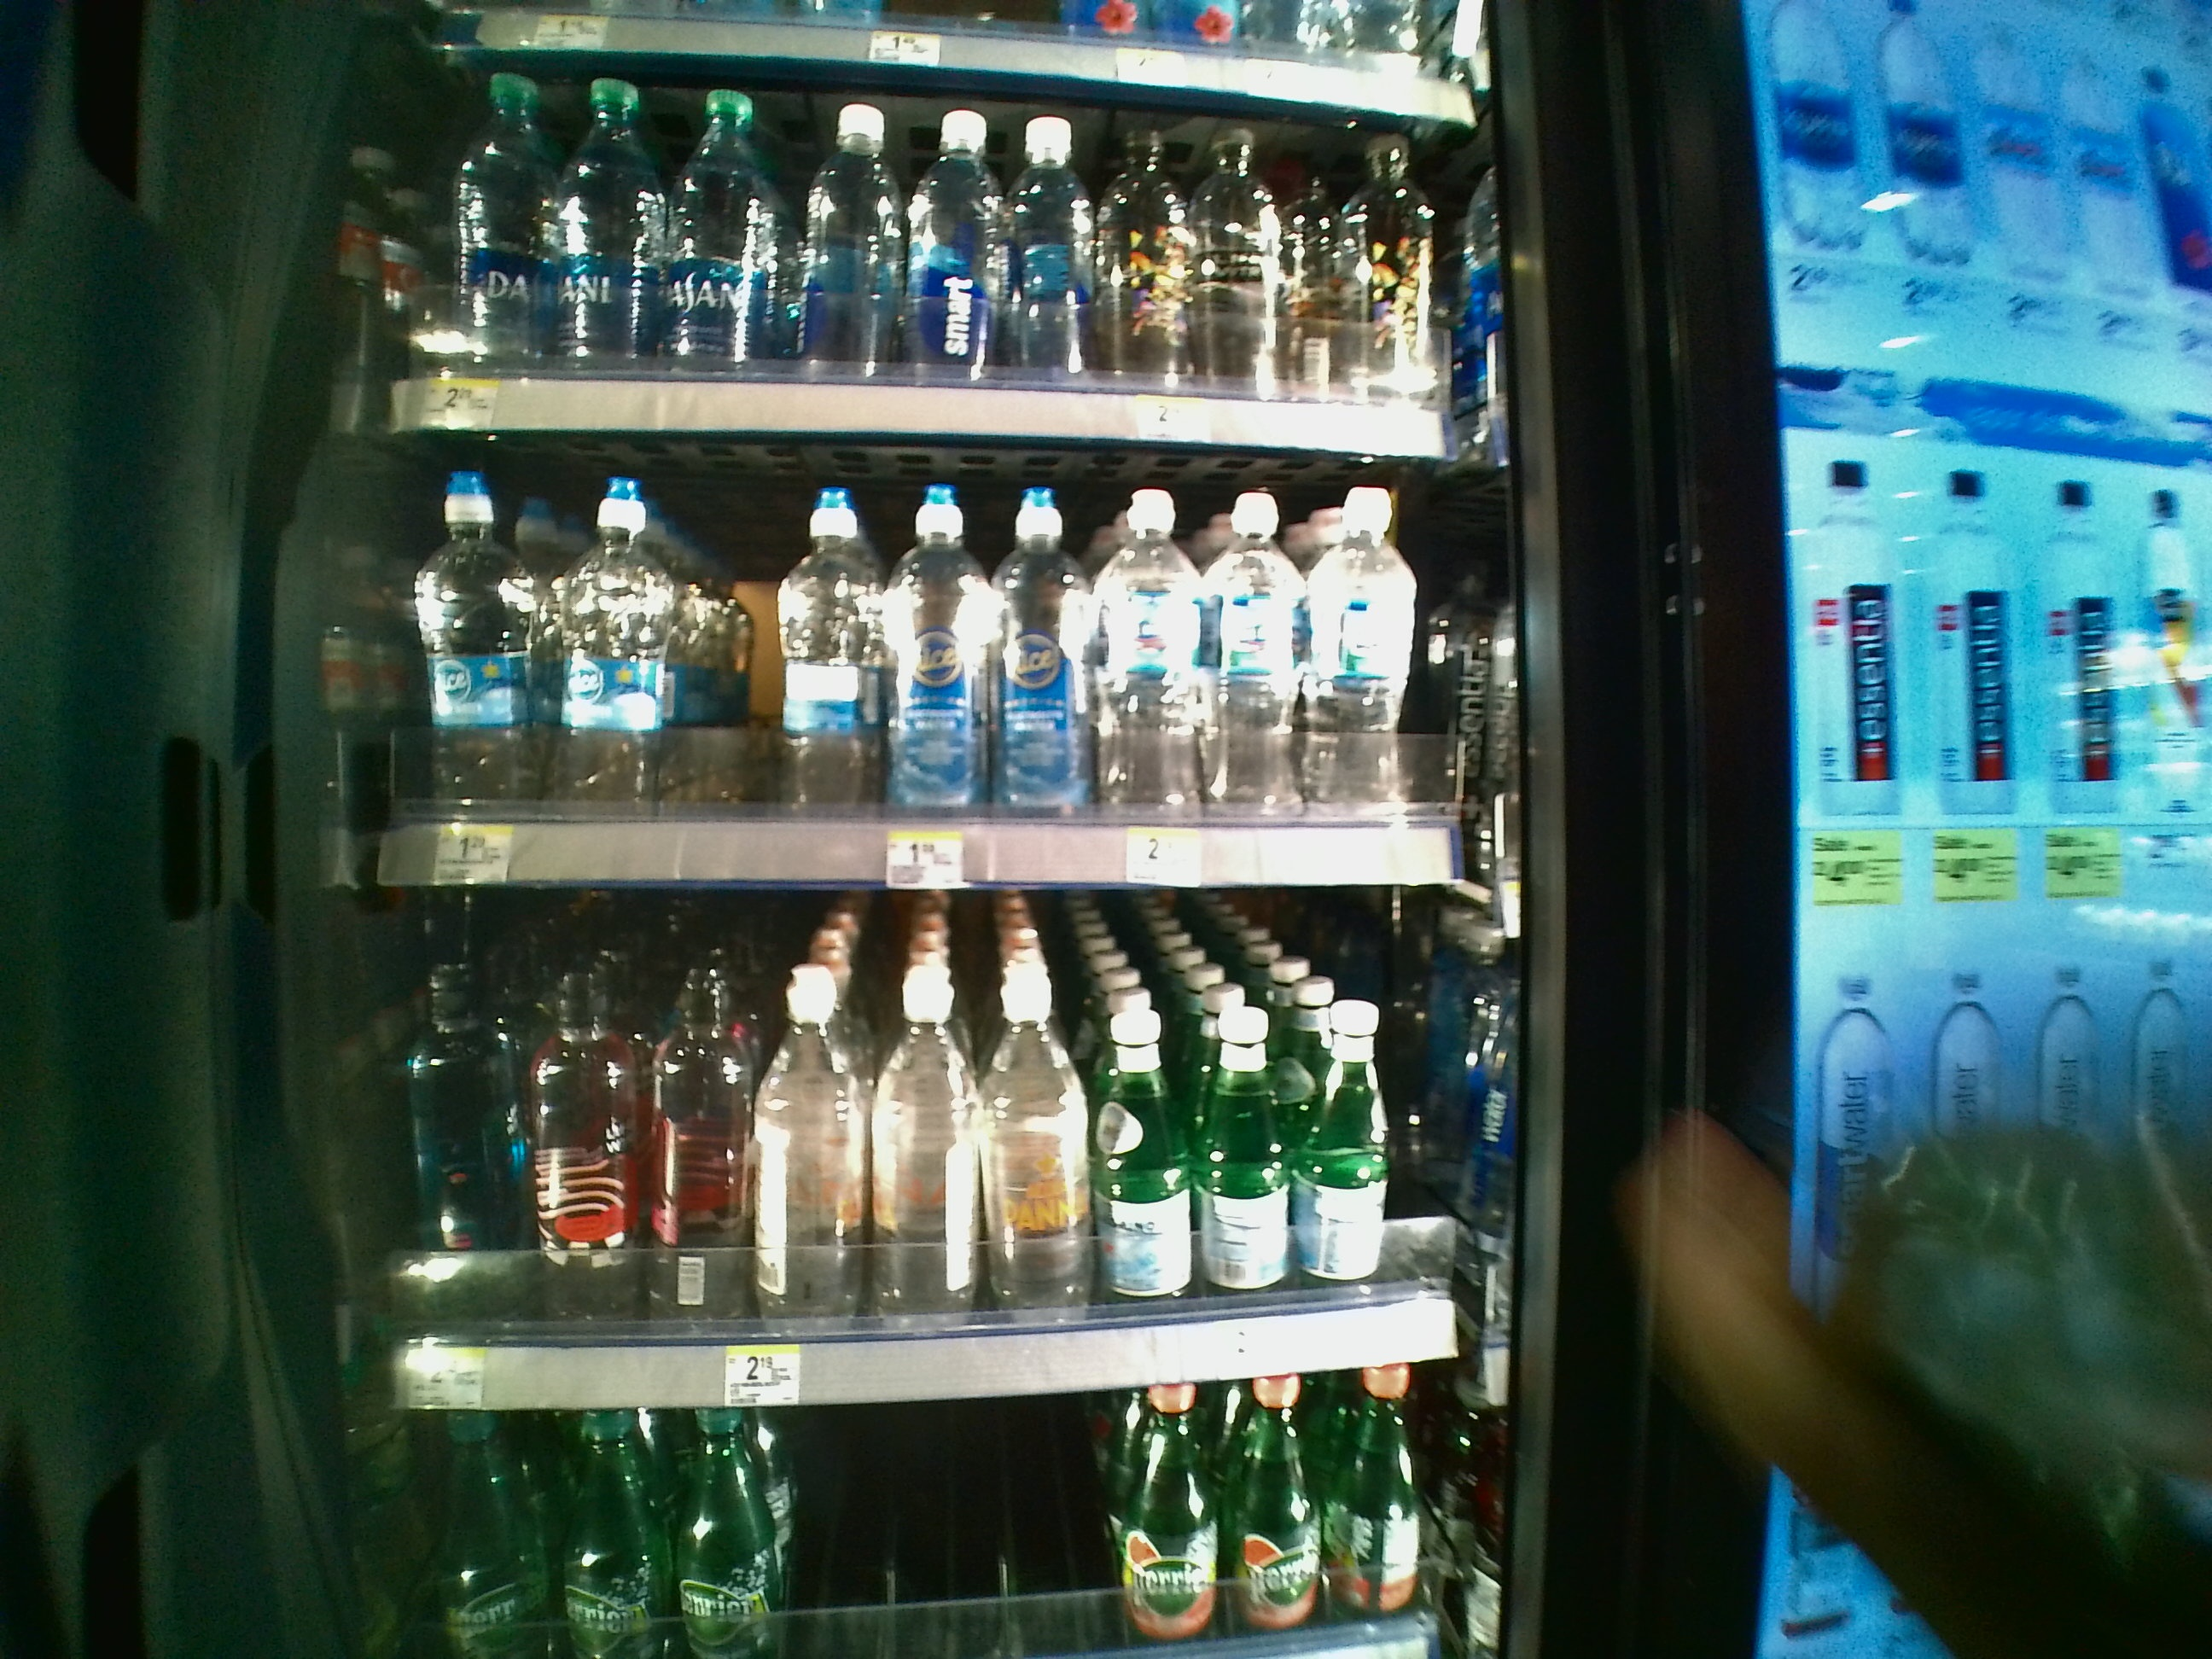Shelf: (331, 889, 1498, 1413), (331, 450, 1526, 889)
